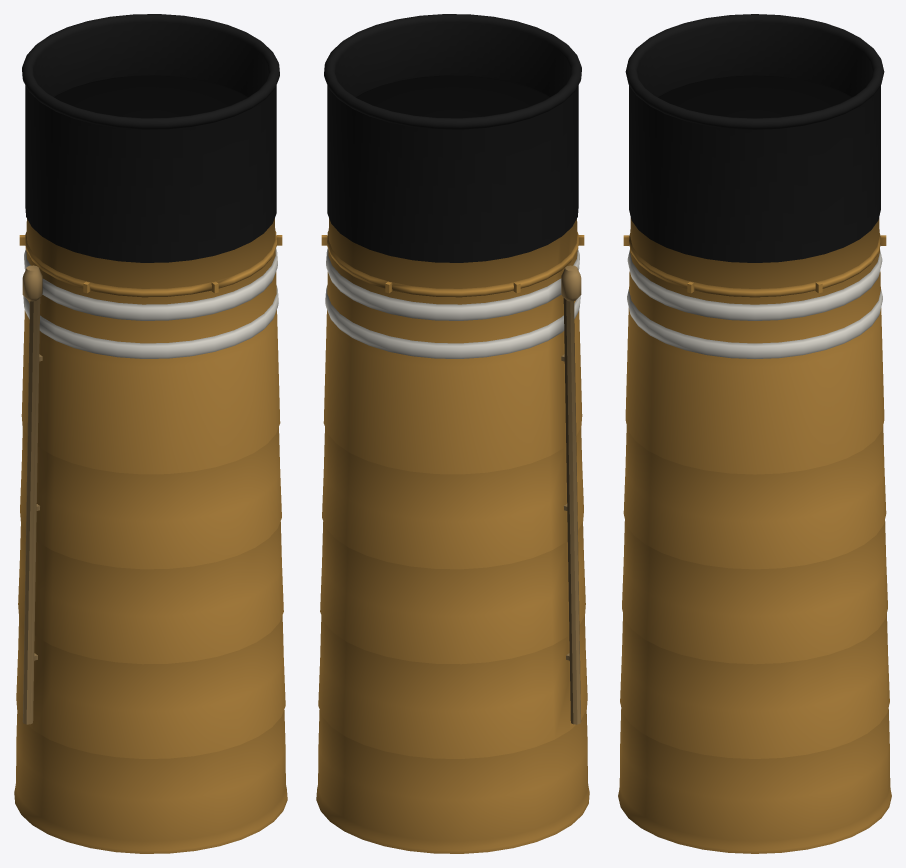
The model's file is funnel-large.glb.
3 renders of one model, left to right at view 1: azimuth 30°, elevation 25°; view 2: azimuth 150°, elevation 25°; view 3: azimuth 270°, elevation 25°, orthographic.
Parts seen in each view (by area): view 1: body, cap, bands, opening, pipe; view 2: body, cap, bands, opening, pipe; view 3: body, cap, bands, opening.
Part boxes in pixels (x1,y1,x2,y2): body: (14, 218, 287, 853); cap: (22, 14, 279, 262); bands: (23, 248, 278, 358); opening: (54, 75, 247, 118); pipe: (22, 265, 42, 724); body: (316, 218, 589, 853); cap: (324, 14, 581, 262); bands: (325, 248, 580, 358); opening: (356, 75, 549, 118); pipe: (561, 265, 581, 724); body: (618, 217, 891, 853); cap: (625, 14, 884, 262); bands: (627, 250, 882, 358); opening: (658, 75, 851, 118).
Bounding box in the file's own units: 1.49 × 4.22 × 1.44.
